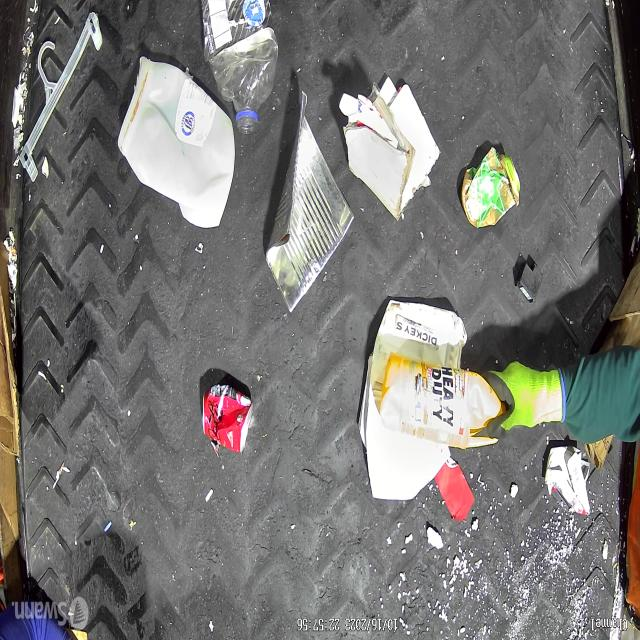can: (265, 93, 353, 311), (461, 152, 521, 229), (202, 383, 254, 453)
milk_jug: (117, 55, 236, 228)
non_white_jug: (378, 357, 504, 450)
plastic_bottle: (201, 0, 279, 135)
